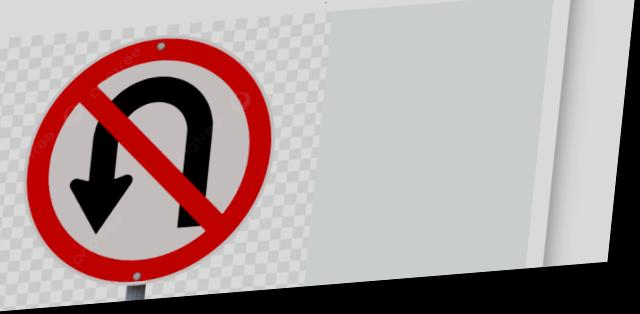not_u_turn_left: (22, 29, 288, 301)
